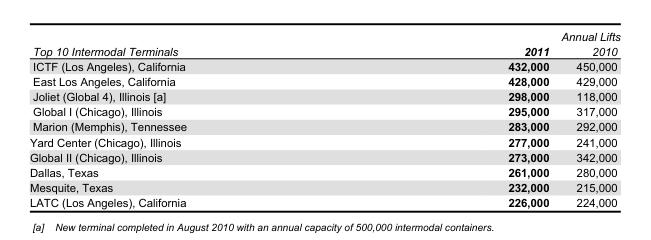table: (28, 29, 619, 208)
table column: (28, 29, 346, 208), (346, 29, 554, 208), (554, 29, 619, 208)
table column header: (28, 29, 619, 58)
table row: (28, 29, 619, 58), (28, 118, 619, 134), (28, 58, 619, 73), (28, 73, 619, 88), (28, 88, 619, 103), (28, 103, 619, 118), (28, 134, 619, 149), (28, 149, 619, 164), (28, 164, 619, 179), (28, 179, 619, 194), (28, 194, 619, 208)
